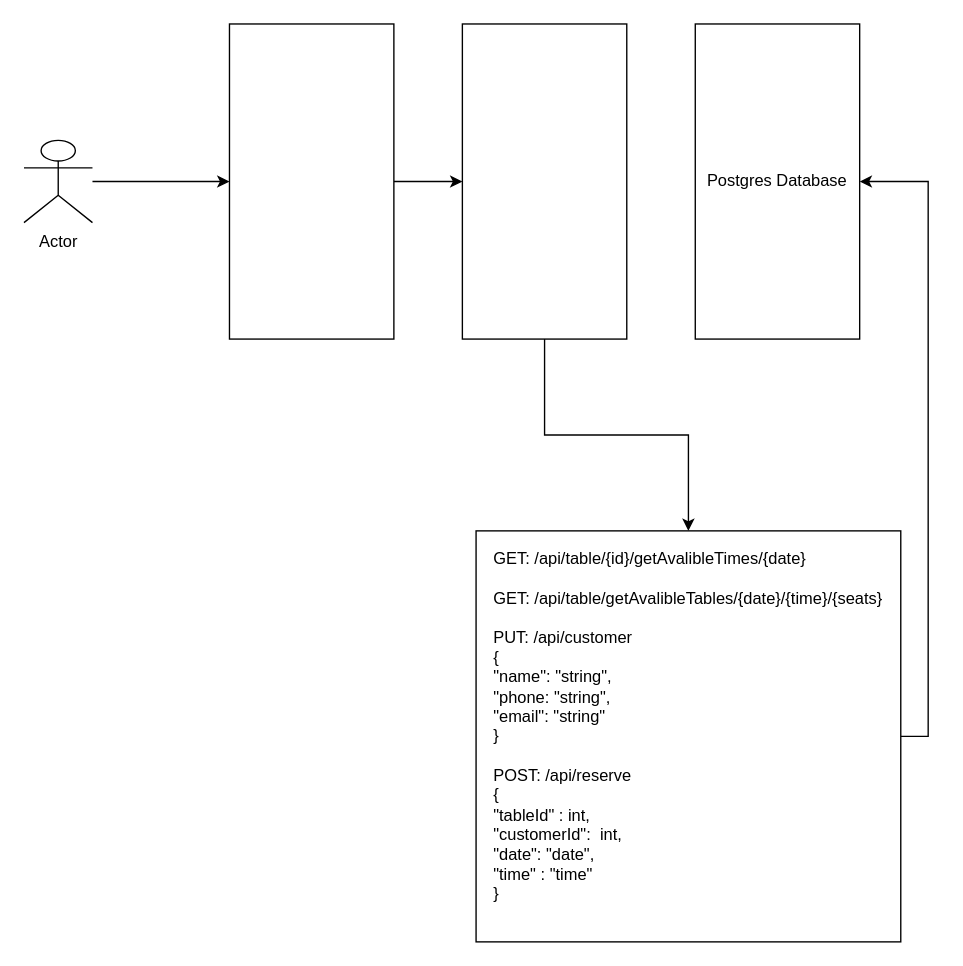
Some shapes in this 963 by 966 pixel diagram are drawn without their labels. The centre of each missing label's shape, as x and y in pixels:
Node Express API: the point at 544,181
React Website: the point at 311,181
